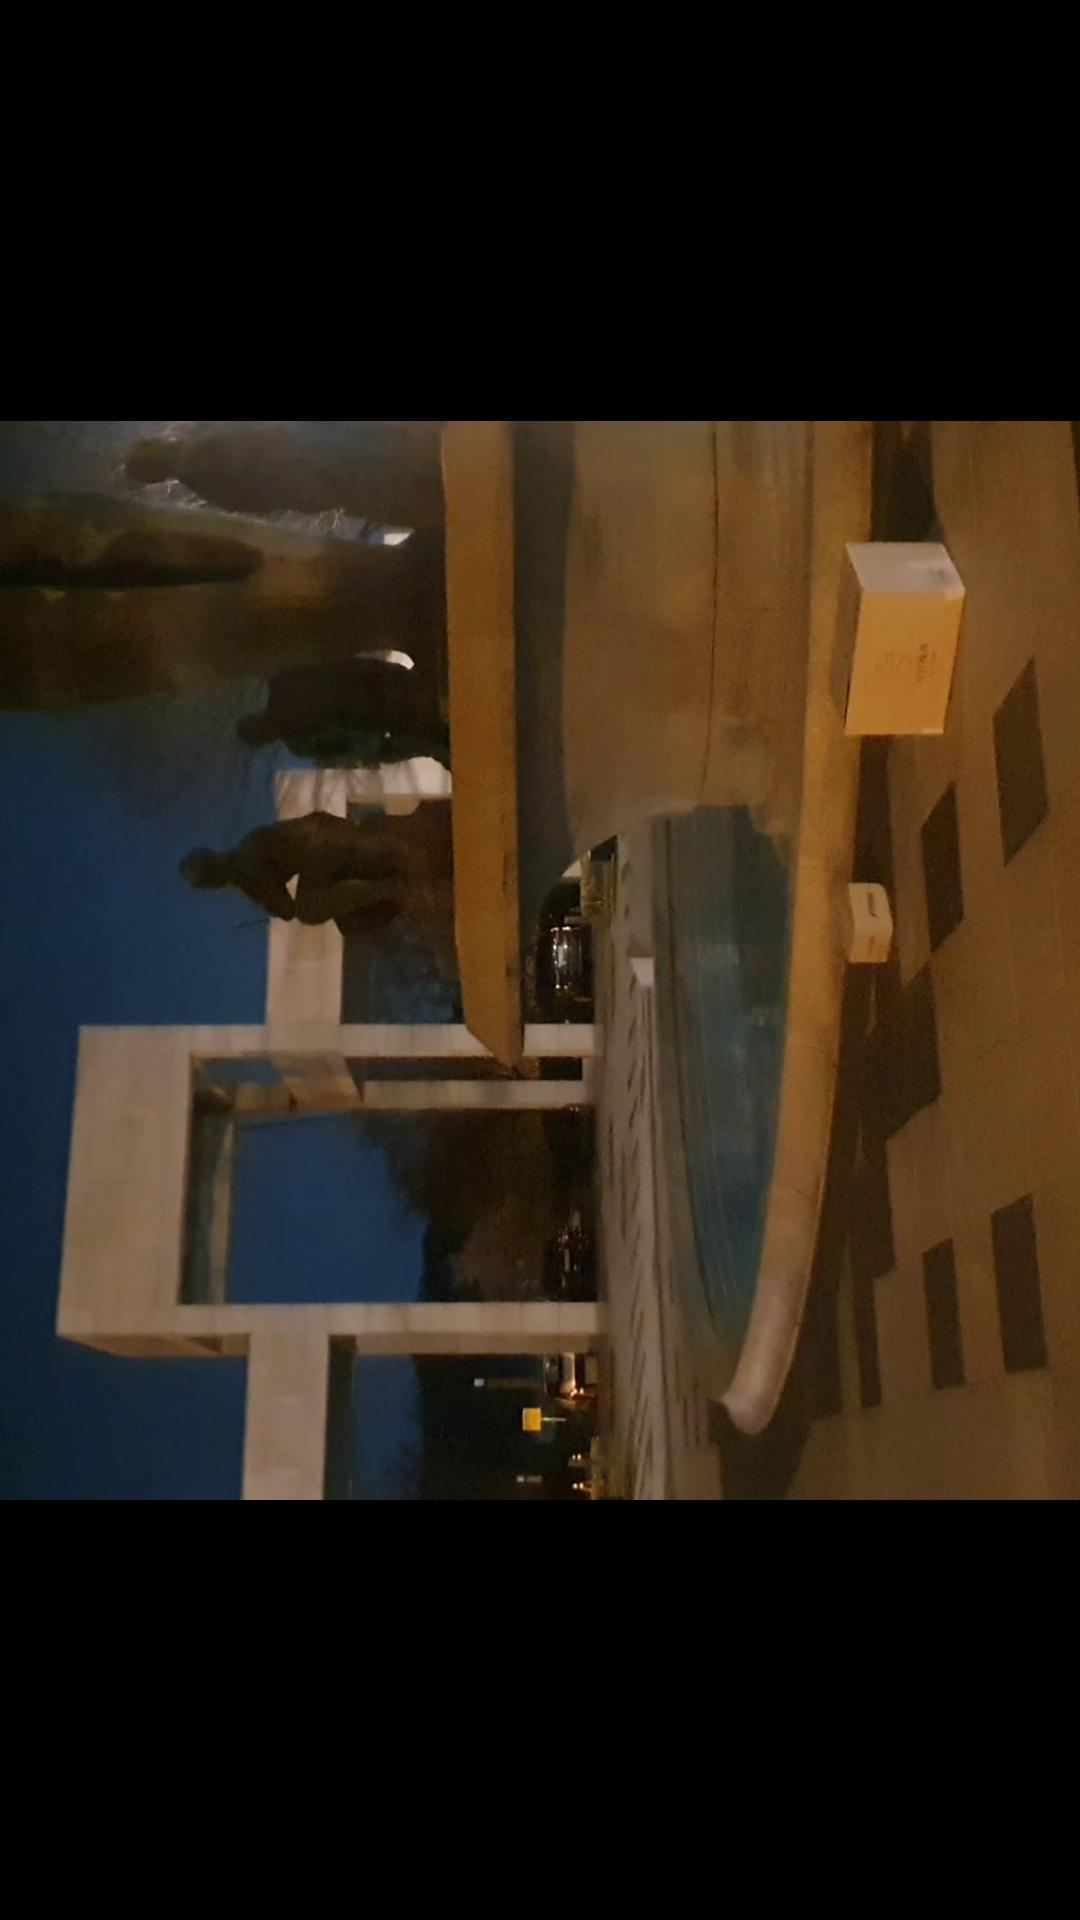Box: (825, 520, 975, 760), (829, 872, 890, 969)
